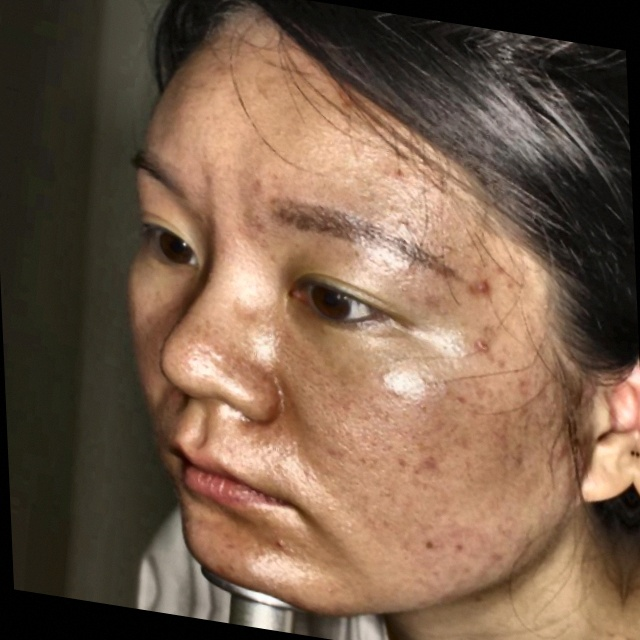comedone: (269, 527, 298, 557), (470, 272, 498, 298), (469, 334, 493, 363), (549, 440, 573, 469)
